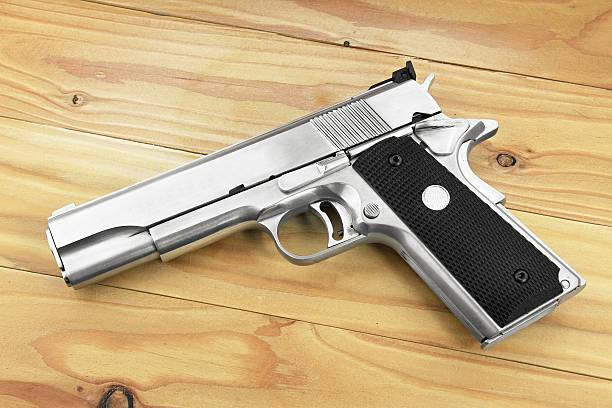gun: (46, 59, 587, 347)
